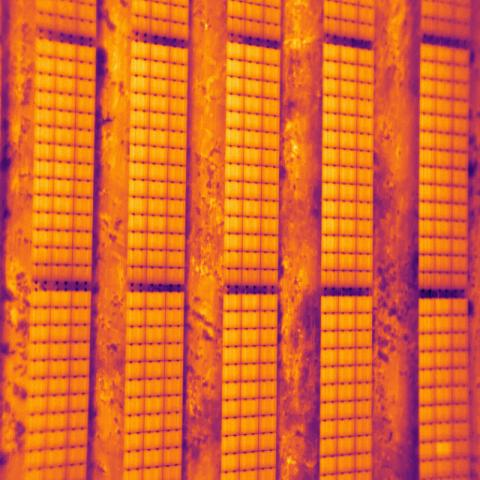fault: (436, 441, 451, 459)
